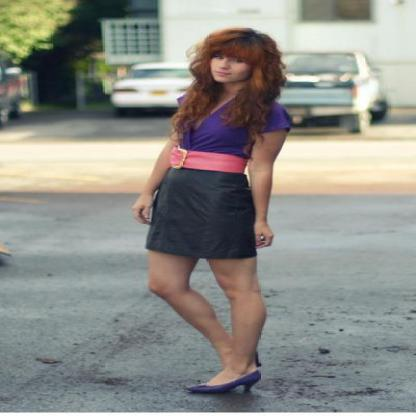shirt: (178, 108, 298, 158)
shoe: (188, 374, 259, 401)
skirt: (139, 166, 256, 268)
